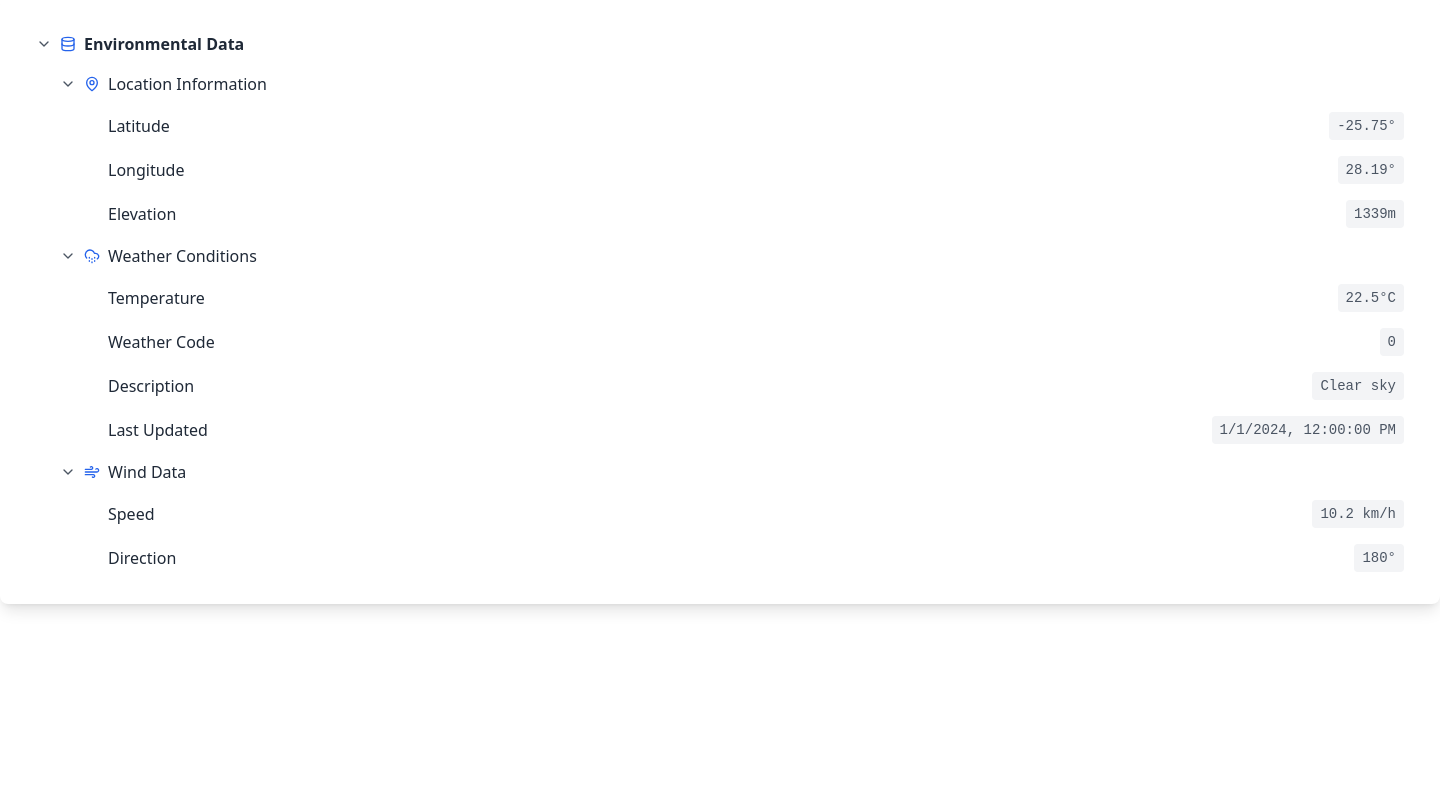
Scenario: TreeView Functional Tests › should collapse and expand tree nodes
The width and height of the screenshot is (1440, 810).
Expected: the text "Latitude" is shown, [108,114,170,138]
Click the text "Location Information".
click(187, 84)  # box [108,72,267,96]
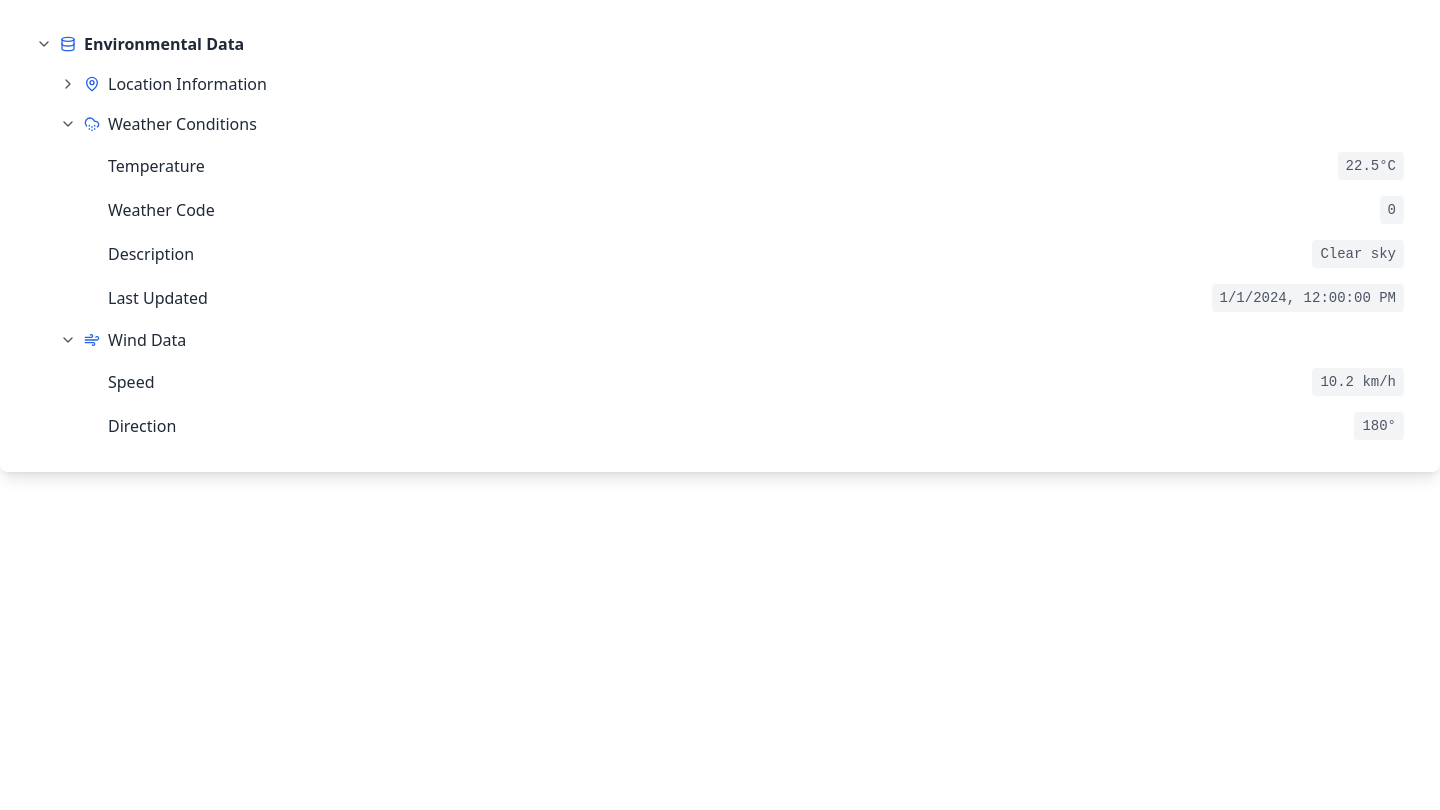
Result: the text "Latitude" is gone
Click the text "Location Information".
click(187, 84)  # box [108,72,267,96]
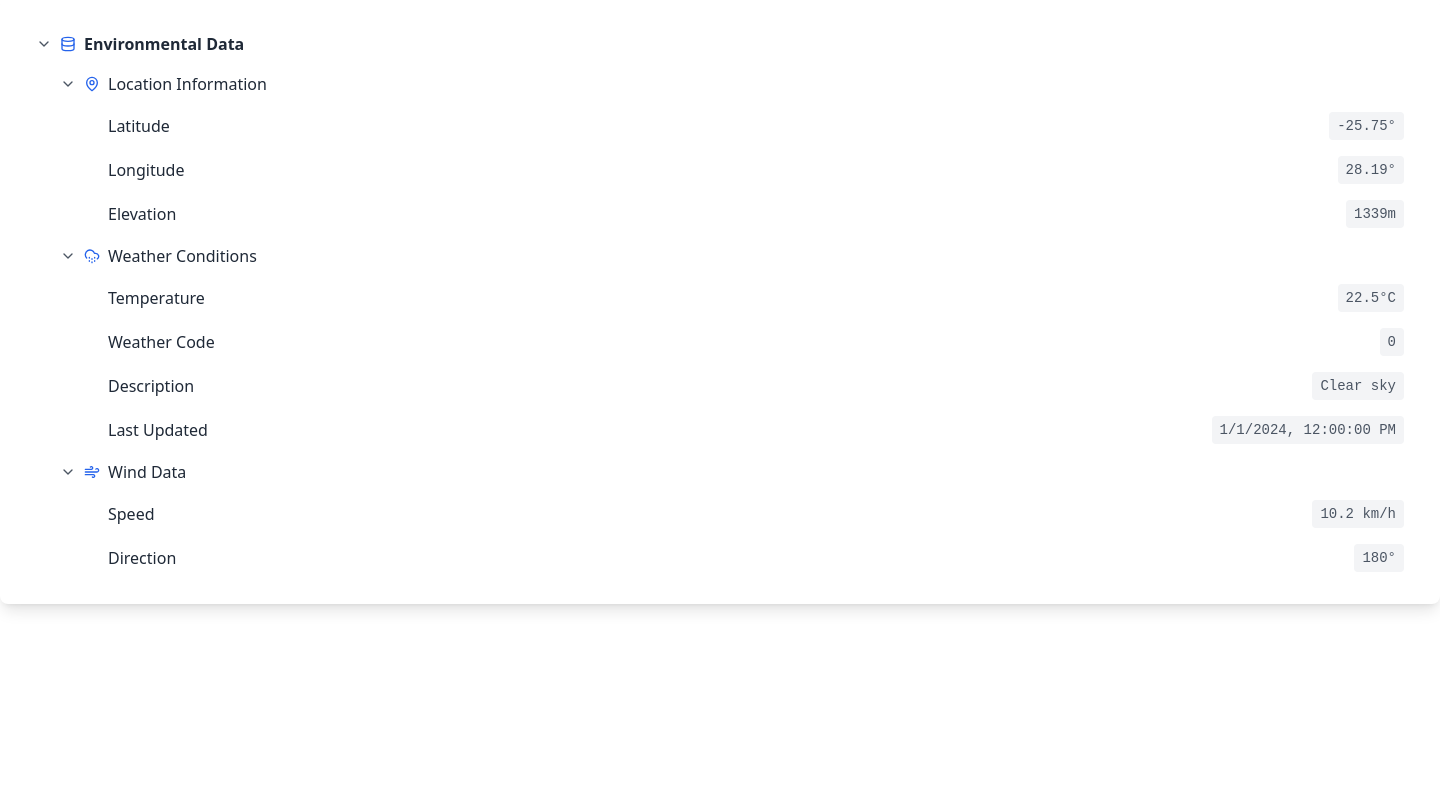
Result: the text "Latitude" is shown at [108,114,170,138]
